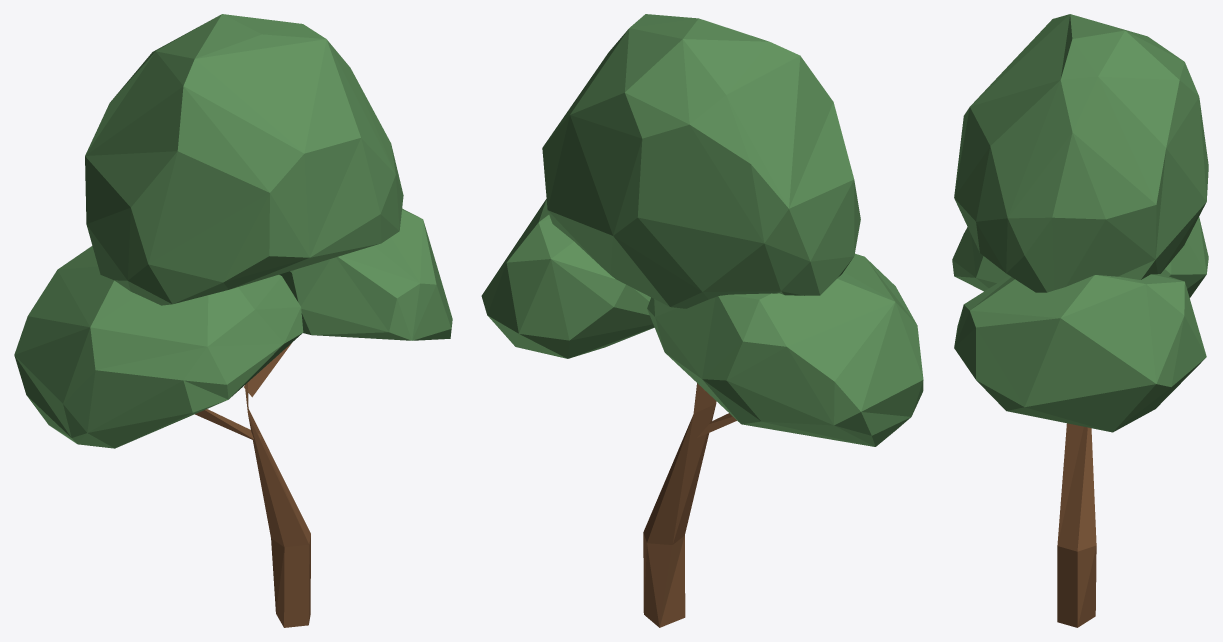
The model's file is tree.glb.
3 renders of one model, left to right at view 1: azimuth 30°, elevation 25°; view 2: azimuth 150°, elevation 25°; view 3: azimuth 270°, elevation 25°, orthographic. The views are drawn at different scales.
Parts seen in each view (by area): view 1: Tree2; view 2: Tree2; view 3: Tree2.
Boxes of the visible parts, left/top/right/bottom form: Tree2: left=14, top=14, right=452, bottom=627; Tree2: left=481, top=14, right=923, bottom=627; Tree2: left=952, top=14, right=1208, bottom=627.
Size of the model in its own units: 3.66 by 5.53 by 2.26.
